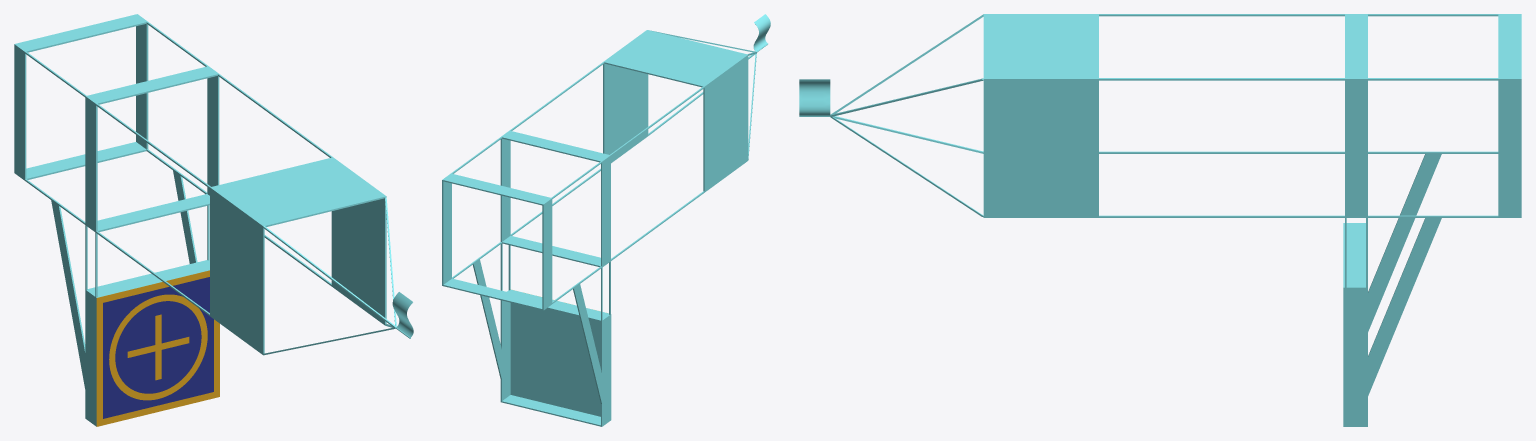
The model's file is high_base_right.obj.
The picture shows the model from 3 angles, left to right: view 1: azimuth 30°, elevation 25°; view 2: azimuth 150°, elevation 25°; view 3: azimuth 270°, elevation 25°; orthographic projection. The views are drawn at different scales.
Visible parts, largest first — view 1: high_base_right_Body1.008, high_land_right_blue_circle_Body4.002, high_base_right_blue_frame_Body2.003, high_base_right_yellow_frame_Body1.020, high_base_right_yellow_circle_Body3.002, high_base_right_cross_Body5.001; view 2: high_base_right_Body1.008, high_base_plate_right_Body1.006; view 3: high_base_right_Body1.008.
Part boxes in pixels (left/top/right/bottom): high_base_right_Body1.008: left=14, top=14, right=413, bottom=425; high_land_right_blue_circle_Body4.002: left=115, top=301, right=201, bottom=393; high_base_right_blue_frame_Body2.003: left=103, top=277, right=213, bottom=418; high_base_right_yellow_frame_Body1.020: left=96, top=270, right=219, bottom=426; high_base_right_yellow_circle_Body3.002: left=109, top=294, right=207, bottom=400; high_base_right_cross_Body5.001: left=127, top=314, right=189, bottom=380; high_base_right_Body1.008: left=442, top=14, right=770, bottom=426; high_base_plate_right_Body1.006: left=510, top=289, right=611, bottom=419; high_base_right_Body1.008: left=799, top=14, right=1521, bottom=426.
Bounding box in the file's own units: 1 × 2.5 × 4.7.
